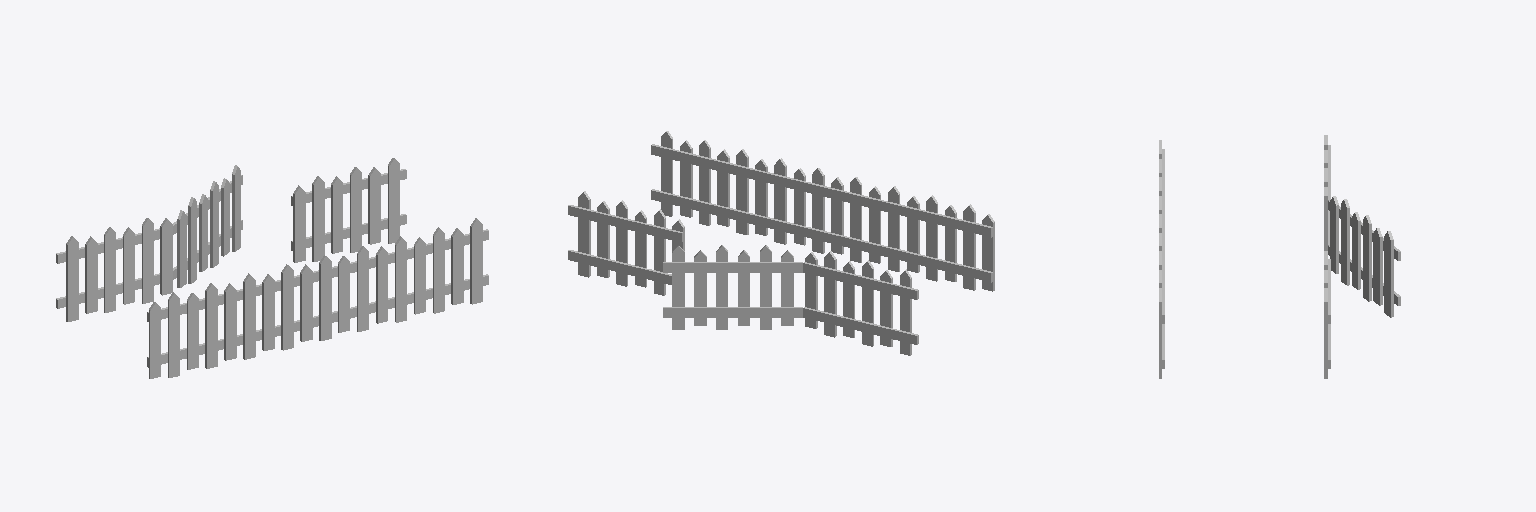
Rendered from yog'och devor 1.obj.
The picture shows the model from 3 angles: view 1: azimuth 30°, elevation 25°; view 2: azimuth 150°, elevation 25°; view 3: azimuth 270°, elevation 25°; orthographic projection.
Visible parts, largest first — view 1: Box006, Box174, Box188, Box189, Box197, Box198, Box180, Box172, Box004, Box005, Box173, Box190 (+24 smaller); view 2: Box171, Box170, Box179, Box178, Box186, Box202, Box203, Box195, Box194, Box013, Box012, Box187 (+28 smaller); view 3: Box166, Box164, Box165, Box169, Box168, Box167.
Boxes of the visible parts, box(x1,y1,x2,y2) form: Box006: box(470, 218, 482, 304); Box174: box(66, 236, 78, 321); Box188: box(281, 264, 293, 350); Box189: box(319, 255, 331, 340); Box197: box(205, 283, 217, 368); Box198: box(243, 273, 255, 359); Box180: box(312, 176, 324, 261); Box172: box(142, 218, 153, 303); Box004: box(395, 236, 406, 322); Box005: box(433, 227, 444, 313); Box173: box(104, 227, 115, 312); Box190: box(357, 246, 368, 331); Box171: box(663, 307, 802, 317); Box170: box(663, 262, 802, 272); Box179: box(803, 307, 918, 344); Box178: box(803, 262, 918, 299); Box186: box(568, 205, 682, 242); Box202: box(878, 199, 992, 237); Box203: box(878, 244, 992, 282); Box195: box(764, 217, 878, 254); Box194: box(764, 172, 878, 209); Box013: box(651, 189, 764, 226); Box012: box(651, 144, 764, 181); Box187: box(568, 250, 671, 284); Box166: box(1384, 231, 1393, 317); Box164: box(1341, 199, 1349, 285); Box165: box(1363, 215, 1371, 301); Box169: box(1373, 228, 1382, 305); Box168: box(1352, 212, 1360, 289); Box167: box(1330, 196, 1338, 273).
Bounding box in the file's own units: 6440 × 1486 × 3880.